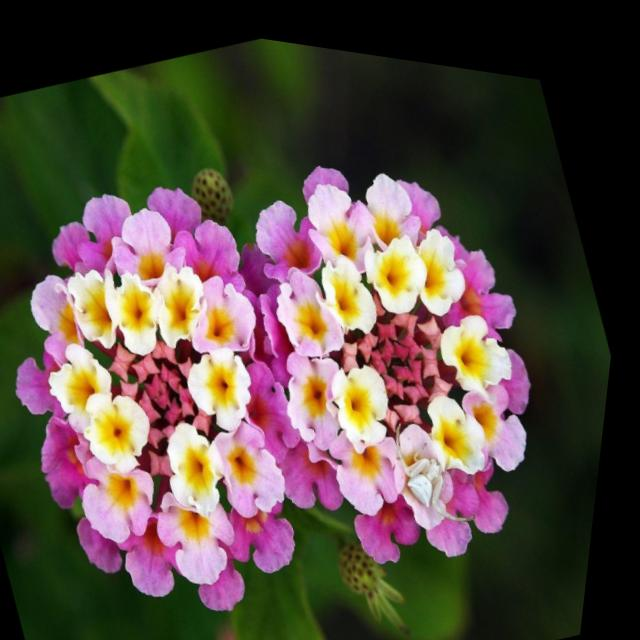Flower: (170, 78, 632, 617), (0, 119, 416, 640)
